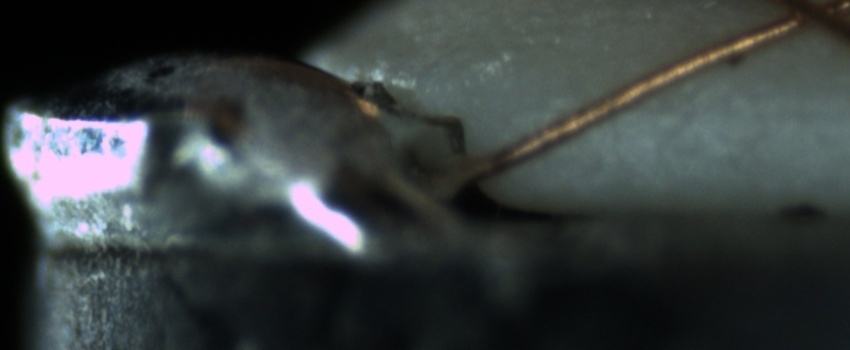CL: (755, 0, 839, 42)
DL: (553, 82, 843, 142)
